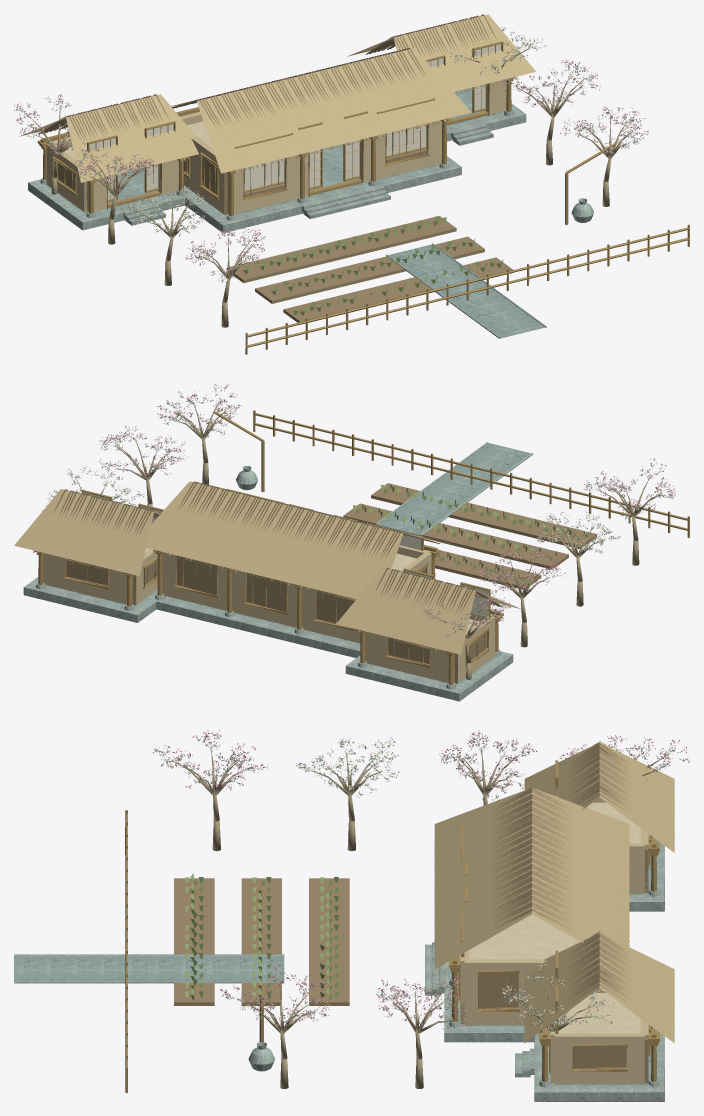
Rendered from reference-public_models_places-low_daoxiangcun.glb.
3 renders of one model, top to bottom at view 1: azimuth 30°, elevation 25°; view 2: azimuth 150°, elevation 25°; view 3: azimuth 270°, elevation 25°, orthographic. The views are drawn at different scales.
Visible parts, largest first — view 1: r15_daoxiangcun_Sunwen_r18_rustic_thatch.001, r15_daoxiangcun_clay, Mobile_daoxiangcun_plants, r15_daoxiangcun_Sunwen_r18_rustic_rusticwood.001, r15_daoxiangcun_Sunwen_r18_rustic_stone.001, r15_daoxiangcun_Sunwen_r18_rustic_qing_clay.001, Mobile_daoxiangcun_paving, r15_daoxiangcun_Sunwen_r18_rustic_screen.001; view 2: r15_daoxiangcun_Sunwen_r18_rustic_thatch.001, r15_daoxiangcun_clay, Mobile_daoxiangcun_plants, r15_daoxiangcun_Sunwen_r18_rustic_qing_clay.001, r15_daoxiangcun_Sunwen_r18_rustic_stone.001, r15_daoxiangcun_Sunwen_r18_rustic_rusticwood.001, Mobile_daoxiangcun_paving, r15_daoxiangcun_Sunwen_r18_rustic_screen.001; view 3: r15_daoxiangcun_Sunwen_r18_rustic_thatch.001, r15_daoxiangcun_clay, Mobile_daoxiangcun_plants, r15_daoxiangcun_Sunwen_r18_rustic_stone.001, r15_daoxiangcun_Sunwen_r18_rustic_qing_clay.001, Mobile_daoxiangcun_paving, r15_daoxiangcun_Sunwen_r18_rustic_plaster.001, r15_daoxiangcun_Sunwen_r18_rustic_rusticwood.001.
Boxes of the visible parts, x1,y1,x2,y2 form: r15_daoxiangcun_Sunwen_r18_rustic_thatch.001: [19, 14, 535, 182]; r15_daoxiangcun_clay: [38, 14, 516, 324]; Mobile_daoxiangcun_plants: [14, 27, 648, 327]; r15_daoxiangcun_Sunwen_r18_rustic_rusticwood.001: [37, 41, 689, 354]; r15_daoxiangcun_Sunwen_r18_rustic_stone.001: [28, 104, 593, 338]; r15_daoxiangcun_Sunwen_r18_rustic_qing_clay.001: [46, 80, 506, 214]; Mobile_daoxiangcun_paving: [42, 88, 544, 337]; r15_daoxiangcun_Sunwen_r18_rustic_screen.001: [89, 44, 501, 199]; r15_daoxiangcun_Sunwen_r18_rustic_thatch.001: [14, 481, 521, 654]; r15_daoxiangcun_clay: [33, 481, 596, 683]; Mobile_daoxiangcun_plants: [42, 384, 675, 679]; r15_daoxiangcun_Sunwen_r18_rustic_qing_clay.001: [43, 545, 495, 683]; r15_daoxiangcun_Sunwen_r18_rustic_stone.001: [23, 442, 533, 701]; r15_daoxiangcun_Sunwen_r18_rustic_rusticwood.001: [35, 410, 689, 684]; Mobile_daoxiangcun_paving: [45, 443, 530, 686]; r15_daoxiangcun_Sunwen_r18_rustic_screen.001: [83, 492, 488, 619]; r15_daoxiangcun_Sunwen_r18_rustic_thatch.001: [434, 741, 674, 1042]; r15_daoxiangcun_clay: [174, 742, 648, 1083]; Mobile_daoxiangcun_plants: [153, 730, 689, 1088]; r15_daoxiangcun_Sunwen_r18_rustic_stone.001: [14, 836, 664, 1101]; r15_daoxiangcun_Sunwen_r18_rustic_qing_clay.001: [460, 797, 648, 1084]; Mobile_daoxiangcun_paving: [14, 856, 651, 1086]; r15_daoxiangcun_Sunwen_r18_rustic_plaster.001: [468, 802, 640, 1033]; r15_daoxiangcun_Sunwen_r18_rustic_rusticwood.001: [125, 760, 659, 1092].
Bounding box in the file's own units: 30.44 × 6.07 × 30.02.
9 materials, 7 textured.
